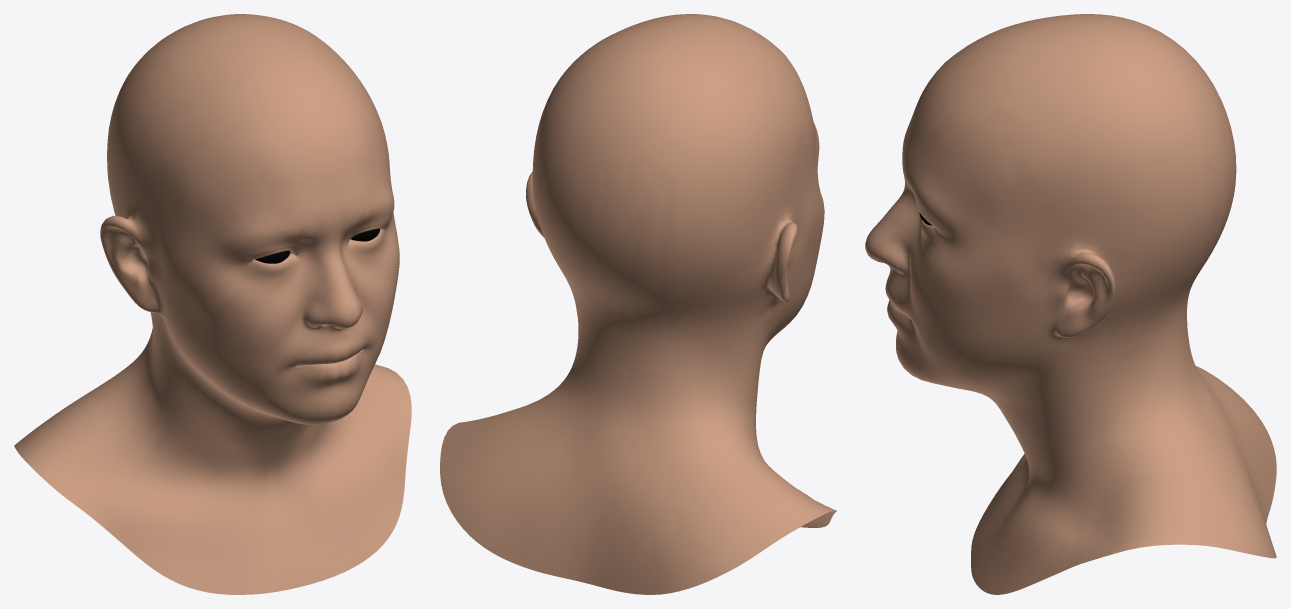
File: head.glb
3 views of the same model, side by side, from view 1: azimuth 30°, elevation 25°; view 2: azimuth 150°, elevation 25°; view 3: azimuth 270°, elevation 25° (orthographic). The views are drawn at different scales.
Visible parts, largest first — view 1: skin; view 2: skin; view 3: skin.
Boxes of the visible parts, bbox=[...] form: skin: bbox=[14, 14, 411, 594]; skin: bbox=[440, 14, 836, 594]; skin: bbox=[865, 14, 1276, 594].
Size of the model in its own units: 0.2554 by 0.3415 by 0.2387.
